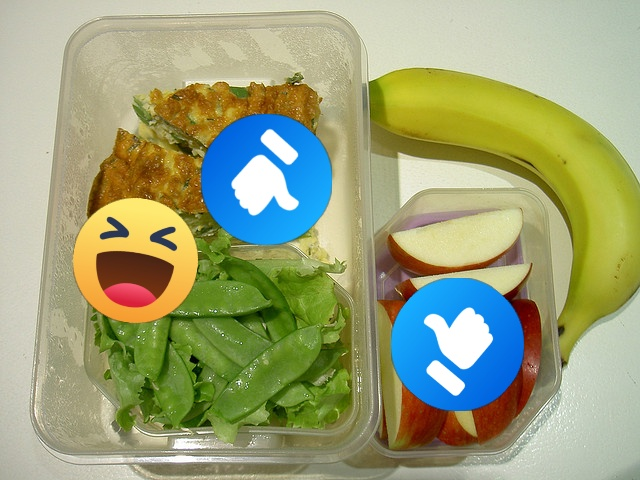haha: (73, 198, 198, 323)
like: (391, 278, 524, 411), (201, 114, 332, 245)
